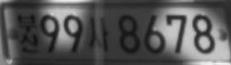6: (142, 13, 166, 54)
7: (166, 13, 187, 54)
8: (116, 12, 141, 54), (191, 13, 215, 54)
9: (62, 13, 84, 54), (40, 13, 60, 52)
부산_V: (17, 13, 40, 53)
사: (85, 16, 111, 53)
